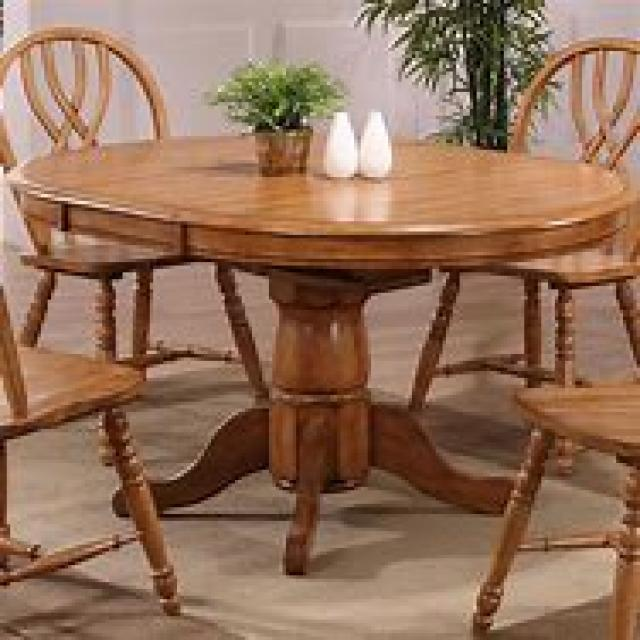chair: (0, 24, 269, 402)
table: (4, 129, 636, 572)
